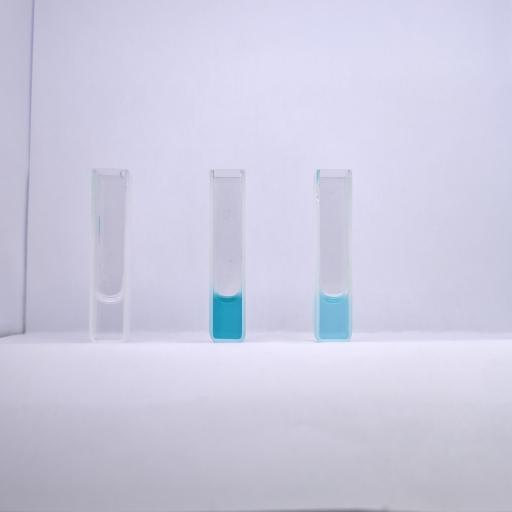cuvette: (87, 166, 132, 348), (315, 166, 355, 345), (208, 166, 248, 344)
liquid: (213, 294, 242, 339), (320, 295, 348, 338), (96, 294, 122, 340)
